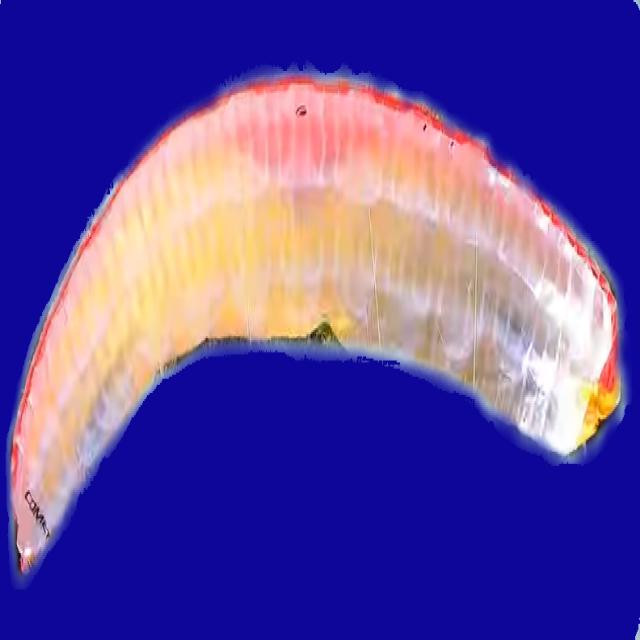paraglider: (6, 65, 624, 585)
